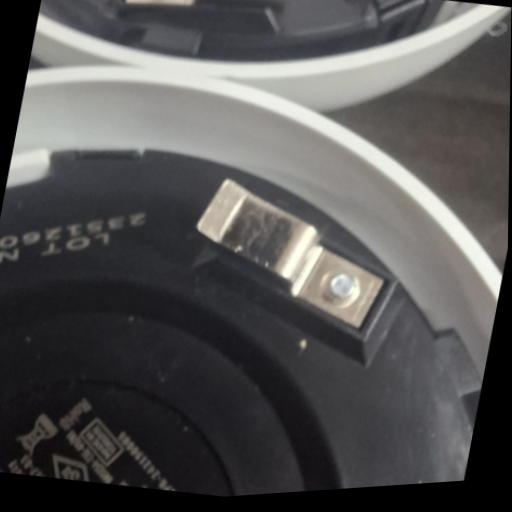yaysiz: (179, 161, 405, 344)
